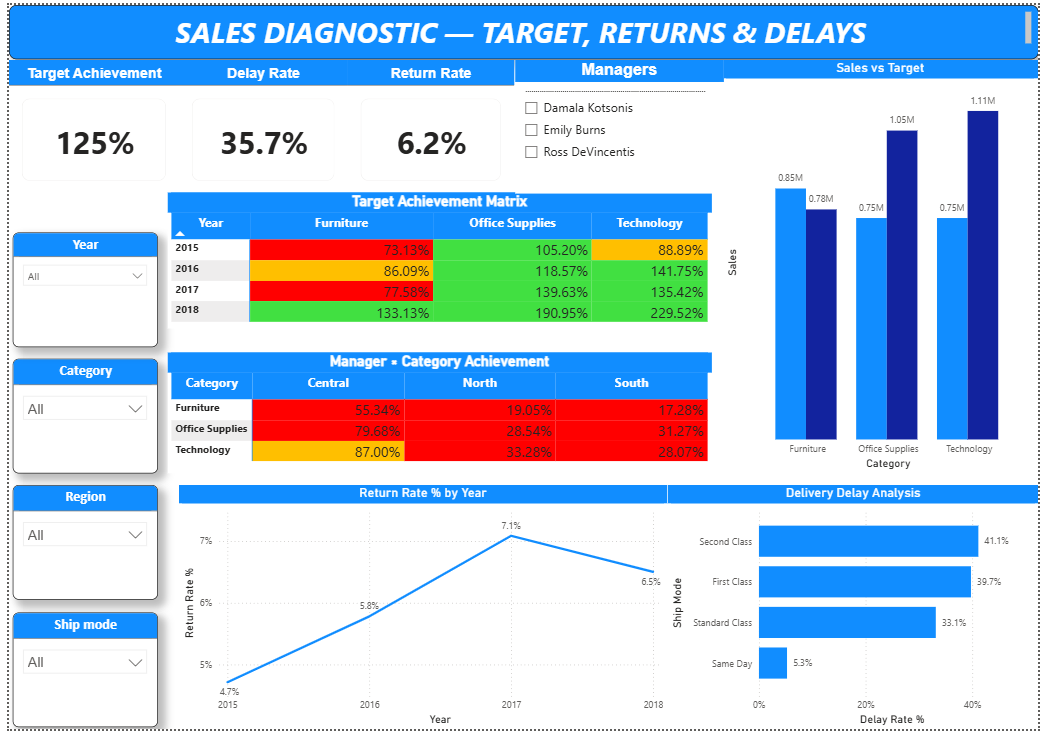

What the dashboard file says about the page in this screenshot:
{"tool":"powerbi","page":{"name":"Diagnostic","canvas":[1350,950],"ordinal":1},"visuals":[{"type":"textbox","box":[0,0,1350,71],"z":0},{"type":"cardVisual","title":"Target Achievement","fields":{"Data":["Combined_Orders_Table.Target Achievement %"]},"box":[0,71.7,223.3,175],"z":1000},{"type":"cardVisual","title":"Return Rate","fields":{"Data":["Combined_Orders_Table.Return Rate %"]},"box":[445,71.7,218.3,175],"z":2000},{"type":"cardVisual","title":"Delay Rate","fields":{"Data":["Combined_Orders_Table.Delay Rate %"]},"box":[223.3,71.7,221.7,175],"z":3000},{"type":"slicer","title":"Region","fields":{"Values":["Combined_Orders_Table.Region"]},"box":[5,630,190,150],"z":4000},{"type":"slicer","title":"Category","fields":{"Values":["Combined_Orders_Table.Category"]},"box":[5,463.3,190,150],"z":5000},{"type":"slicer","title":"Ship mode","fields":{"Values":["Combined_Orders_Table.Ship Mode"]},"box":[5,796.7,190,150],"z":6000},{"type":"slicer","title":"Year","fields":{"Values":["Combined_Orders_Table.Year"]},"box":[5,298.3,190,150],"z":7000},{"type":"pivotTable","title":"Target Achievement Matrix","fields":{"Rows":["Combined_Orders_Table.Year"],"Values":["Combined_Orders_Table.Target Achievement %"],"Columns":["Combined_Orders_Table.Category"]},"box":[208.3,246.7,713.3,178.3],"z":8000},{"type":"clusteredColumnChart","title":"Sales vs Target","fields":{"Y":["Sum(Target.Sales_Target_Amount)","Combined_Orders_Table.Total_ sales"],"Category":["Target.Category"]},"box":[936.7,71.7,413.3,541.7],"z":9000},{"type":"pivotTable","title":"Manager × Category Achievement","fields":{"Values":["Combined_Orders_Table.Target Achievement %"],"Columns":["Combined_Orders_Table.Region"],"Rows":["Combined_Orders_Table.Category"]},"box":[208.3,455,713.3,158.3],"z":10000},{"type":"lineChart","fields":{"Category":["Combined_Orders_Table.Year"],"Y":["Combined_Orders_Table.Return Rate %"]},"box":[223.3,630,640,320],"z":11000},{"type":"clusteredBarChart","title":"Delivery Delay Analysis","fields":{"Category":["Combined_Orders_Table.Ship Mode"],"Y":["Combined_Orders_Table.Delay Rate %"]},"box":[863.3,630,486.7,320],"z":12000},{"type":"slicer","title":"Managers","fields":{"Values":["People.People"]},"box":[663.3,71.7,273.3,175],"z":13000}]}

Visuals, with their boxes in screenshot pixels (x1, y1, x2, y2), scaled from the page's 1350x950 canvas onto the 1055x743 screenshot:
textbox: 0,0,1054,56
"Target Achievement" cardVisual: 0,56,175,193
"Return Rate" cardVisual: 348,56,518,193
"Delay Rate" cardVisual: 175,56,348,193
"Region" slicer: 4,493,152,610
"Category" slicer: 4,362,152,480
"Ship mode" slicer: 4,623,152,740
"Year" slicer: 4,233,152,351
"Target Achievement Matrix" pivotTable: 163,193,720,332
"Sales vs Target" clusteredColumnChart: 732,56,1054,480
"Manager × Category Achievement" pivotTable: 163,356,720,480
lineChart - Combined_Orders_Table.Year x Combined_Orders_Table.Return Rate %: 175,493,675,742
"Delivery Delay Analysis" clusteredBarChart: 675,493,1054,742
"Managers" slicer: 518,56,732,193
